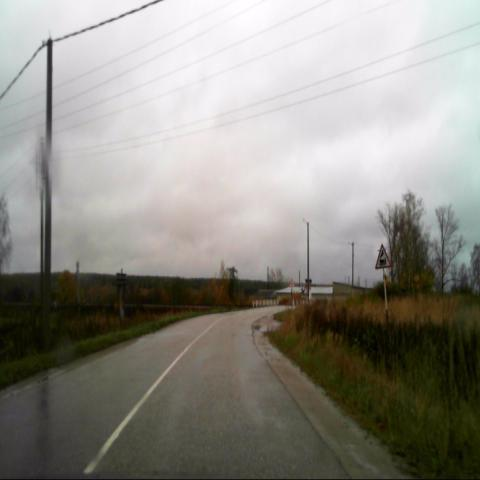1_2: (374, 243, 392, 270)
